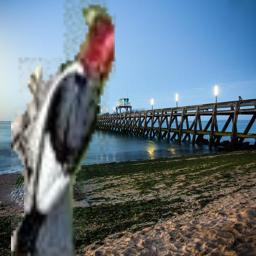Woodpecker: (11, 0, 116, 256)
